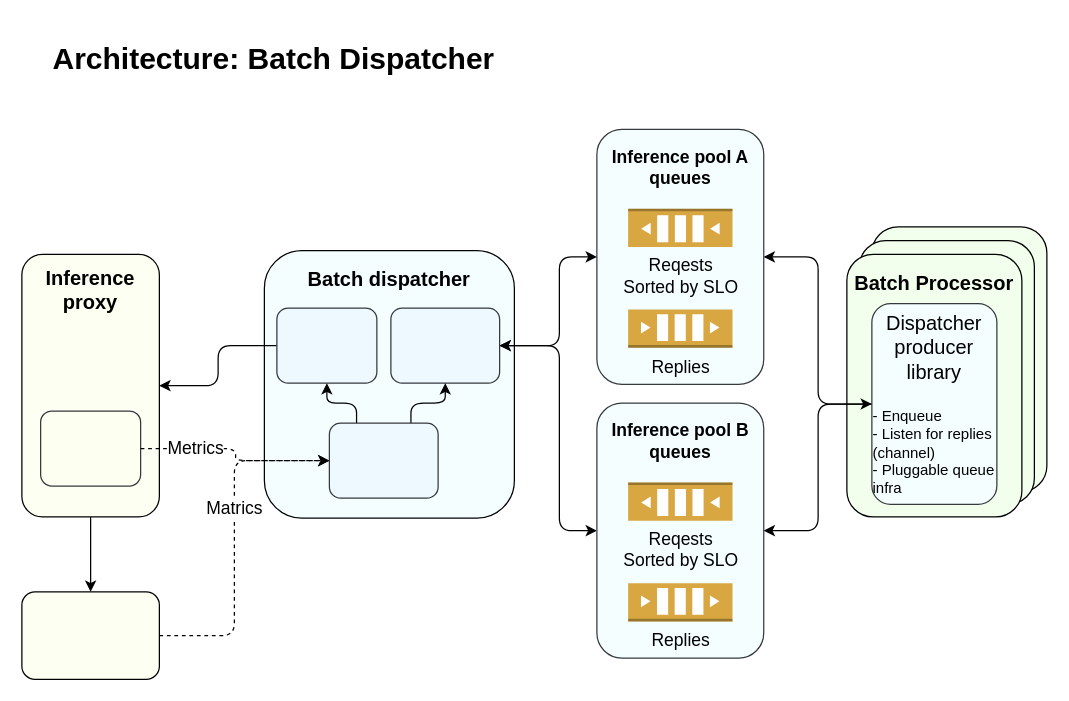
Some shapes in this 1069 by 701 pixel diagram are drawn without their labels. The centre of each missing label's shape, as x and y in pixels:
"Dispatch logic Plus retry logic" goes at (383,460).
"Flow Control" goes at (90,448).
"Inference client" goes at (326,345).
"Inference pool" goes at (90,635).
"Queue consumer Pluggable infra" goes at (445,345).
